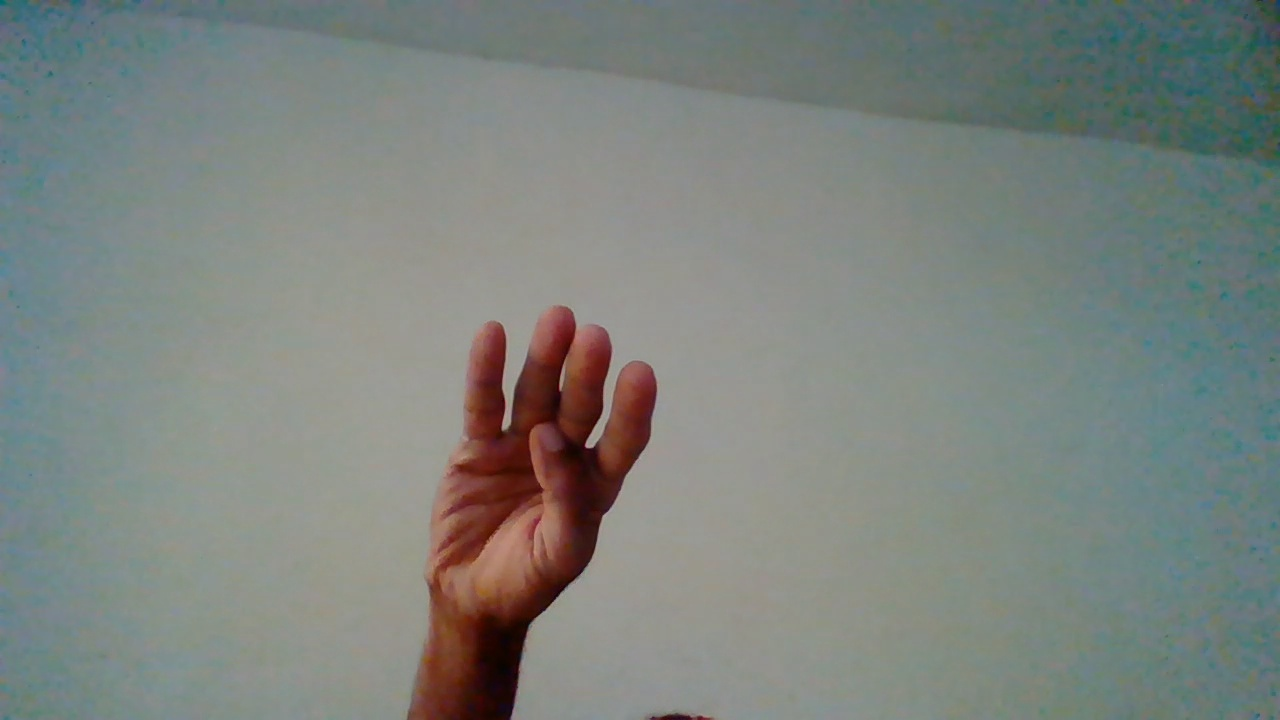me: (412, 307, 661, 704)
